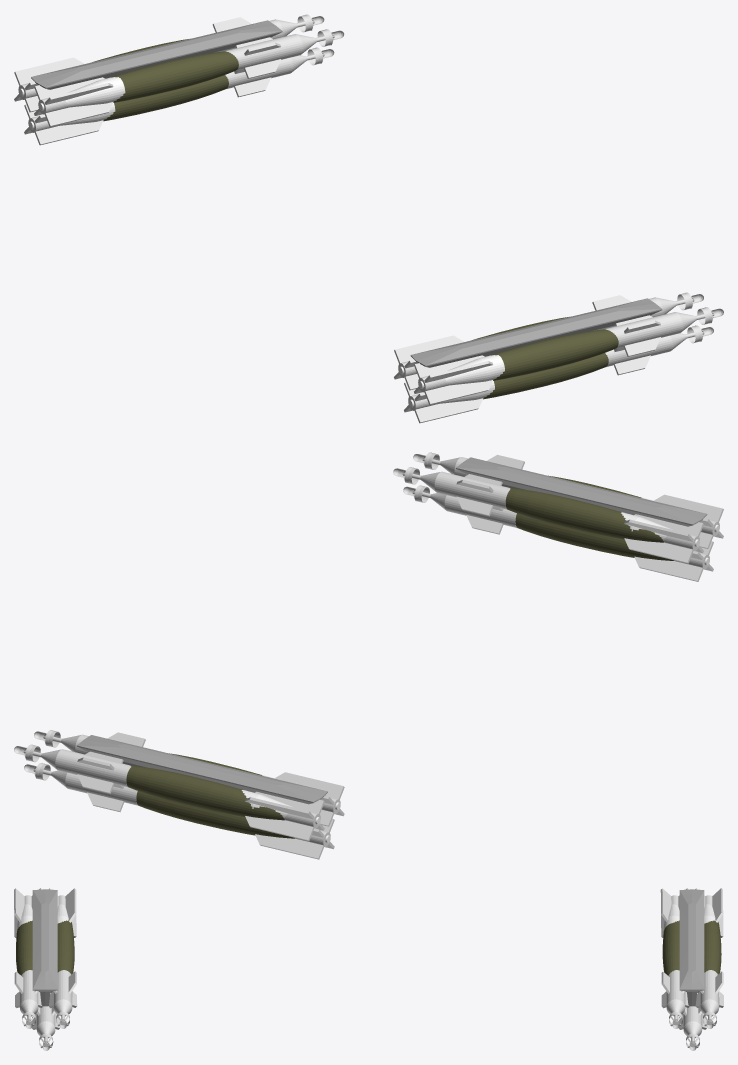
File: f15egbu12113.glb
3 renders of one model, top to bottom at view 1: azimuth 30°, elevation 25°; view 2: azimuth 150°, elevation 25°; view 3: azimuth 270°, elevation 25°, orthographic. The views are drawn at different scales.
Visible parts, largest first — view 1: 円柱.027, 円柱.007, 円柱.009, 円柱.006, 立方体.010, 立方体.011, 円柱.008, 円柱.003; view 2: 円柱.003, 円柱.008, 円柱.009, 円柱.006, 立方体.011, 立方体.010, 円柱.007, 円柱.027; view 3: 立方体.010, 立方体.011, 円柱.003, 円柱.008, 円柱.007, 円柱.027, 円柱.006, 円柱.009.
Part boxes in pixels (left/top/right/bottom): 円柱.027: left=414, top=307, right=723, bottom=404; 円柱.007: left=34, top=29, right=344, bottom=126; 円柱.009: left=24, top=47, right=334, bottom=145; 円柱.006: left=404, top=325, right=713, bottom=423; 立方体.010: left=410, top=298, right=662, bottom=367; 立方体.011: left=31, top=20, right=282, bottom=89; 円柱.008: left=14, top=14, right=324, bottom=112; 円柱.003: left=394, top=292, right=703, bottom=390; 円柱.003: left=393, top=467, right=703, bottom=563; 円柱.008: left=14, top=744, right=324, bottom=840; 円柱.009: left=24, top=763, right=334, bottom=859; 円柱.006: left=403, top=485, right=713, bottom=581; 立方体.011: left=76, top=735, right=327, bottom=804; 立方体.010: left=456, top=457, right=707, bottom=526; 円柱.007: left=34, top=730, right=344, bottom=826; 円柱.027: left=413, top=452, right=723, bottom=548; 立方体.010: left=32, top=889, right=57, bottom=1006; 立方体.011: left=679, top=889, right=704, bottom=1006; 円柱.003: left=48, top=888, right=77, bottom=1028; 円柱.008: left=695, top=888, right=723, bottom=1028; 円柱.007: left=660, top=888, right=689, bottom=1028; 円柱.027: left=14, top=888, right=42, bottom=1028; 円柱.006: left=32, top=991, right=60, bottom=1050; 円柱.009: left=678, top=991, right=706, bottom=1050.
Size of the model in its own units: 3.69 by 0.699 by 8.76.
4 materials, 1 textured.
